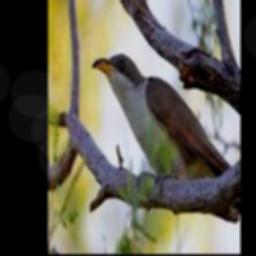Cuckoo: (93, 53, 232, 185)
